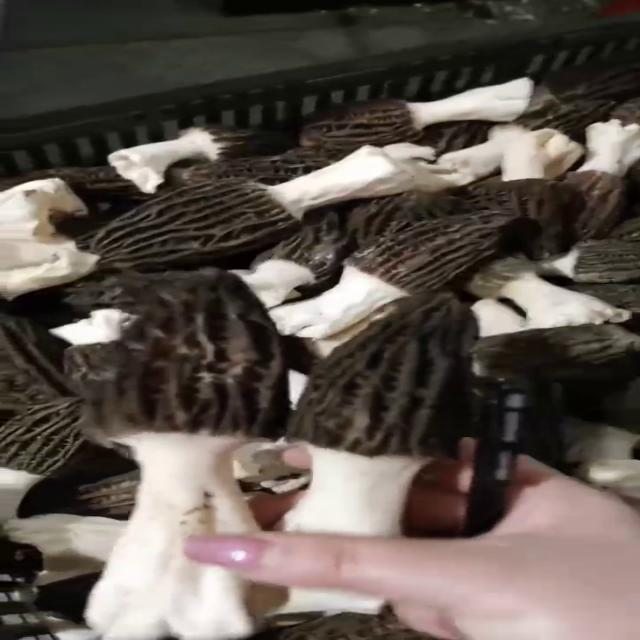Morchella esculenta: (78, 278, 281, 640), (282, 287, 487, 623), (273, 186, 544, 339), (84, 148, 400, 266)
